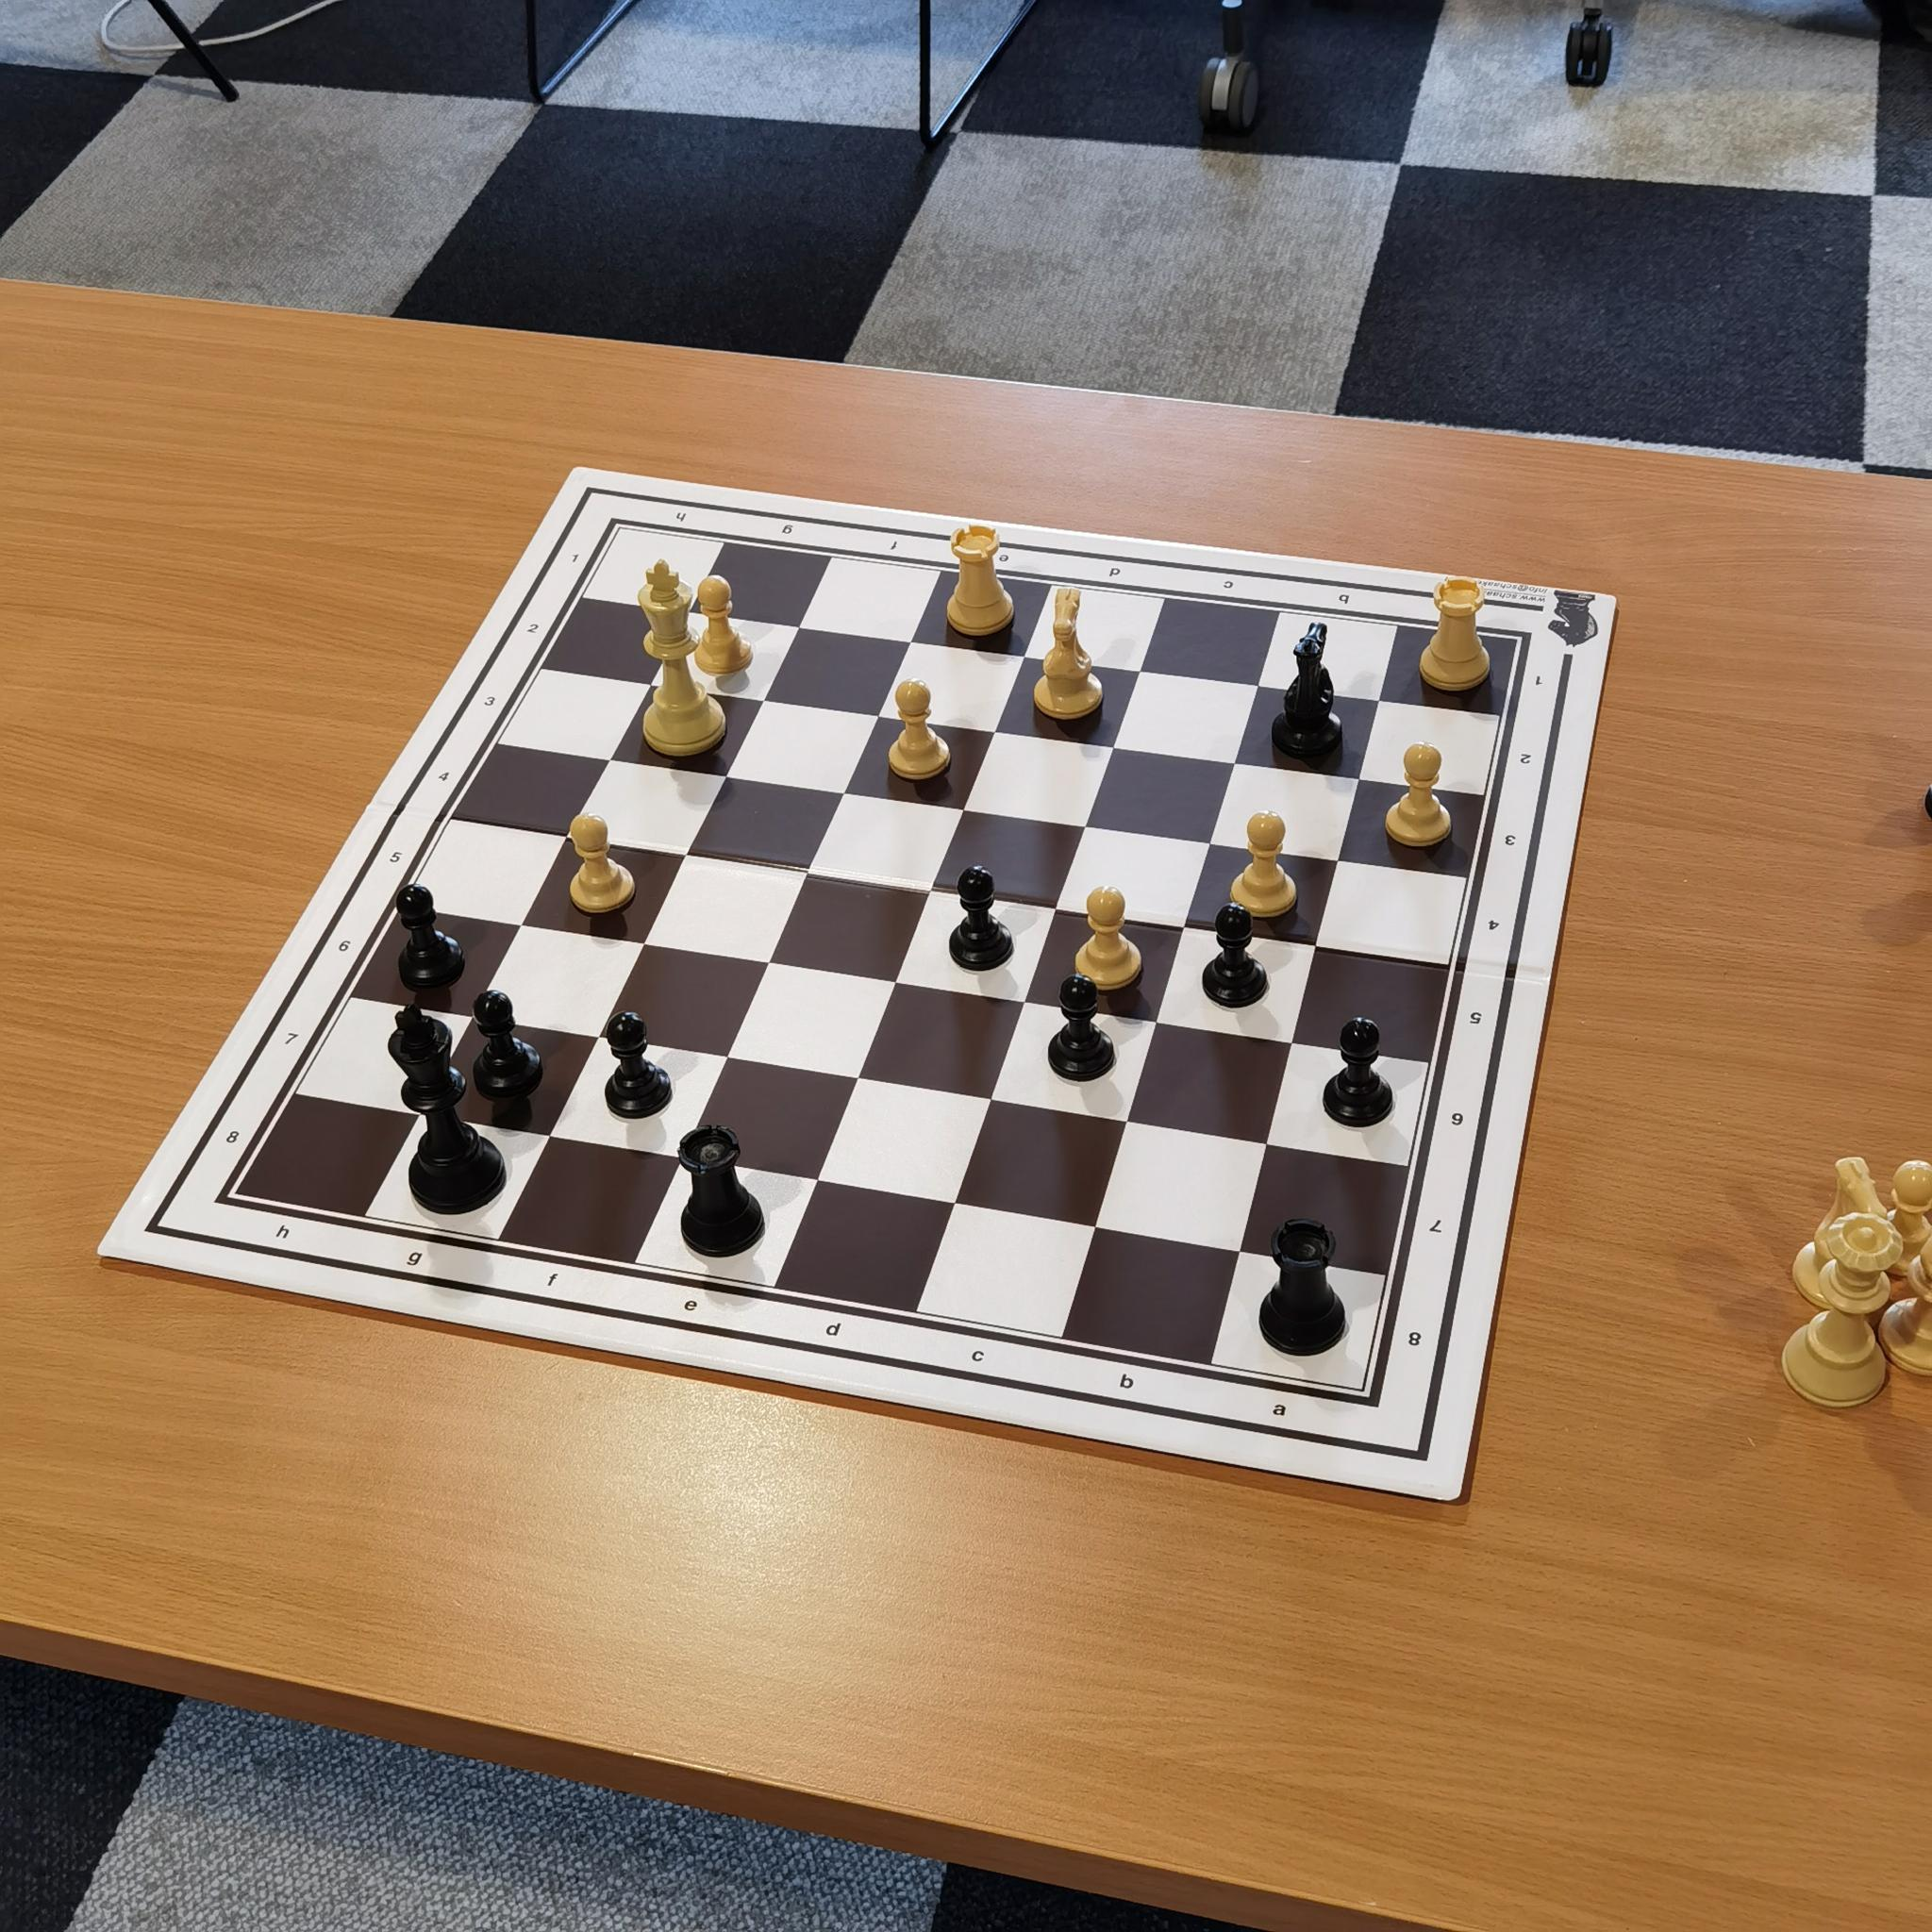corners: (205, 1178, 251, 1223), (1352, 1384, 1391, 1421), (598, 511, 639, 547)
eight: (1389, 1315, 1442, 1362), (212, 1113, 255, 1155)
one: (1514, 660, 1560, 701), (556, 534, 596, 575)
